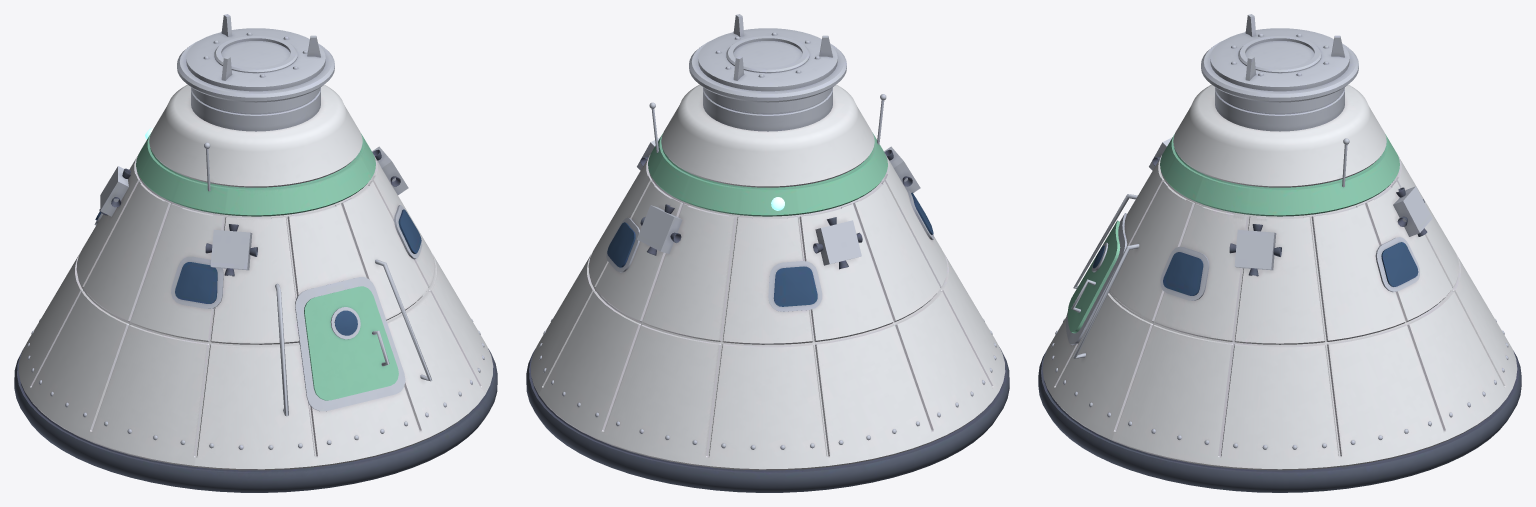
File: space-capsule.glb
3 views of the same model, side by side, from view 1: azimuth 30°, elevation 25°; view 2: azimuth 150°, elevation 25°; view 3: azimuth 270°, elevation 25° (orthographic).
Parts seen in each view (by area): view 1: space-capsule_body, space-capsule_hatch_door; view 2: space-capsule_body; view 3: space-capsule_body, space-capsule_hatch_door.
Boxes of the visible parts, x1,y1,x2,y2 form: space-capsule_body: (14, 14, 497, 492); space-capsule_hatch_door: (304, 286, 398, 400); space-capsule_body: (526, 14, 1009, 492); space-capsule_body: (1038, 14, 1521, 492); space-capsule_hatch_door: (1067, 220, 1120, 333).
Bounding box in the file's own units: 4.16 × 3.51 × 4.16.
Materials: 3 (2 with a texture image).
